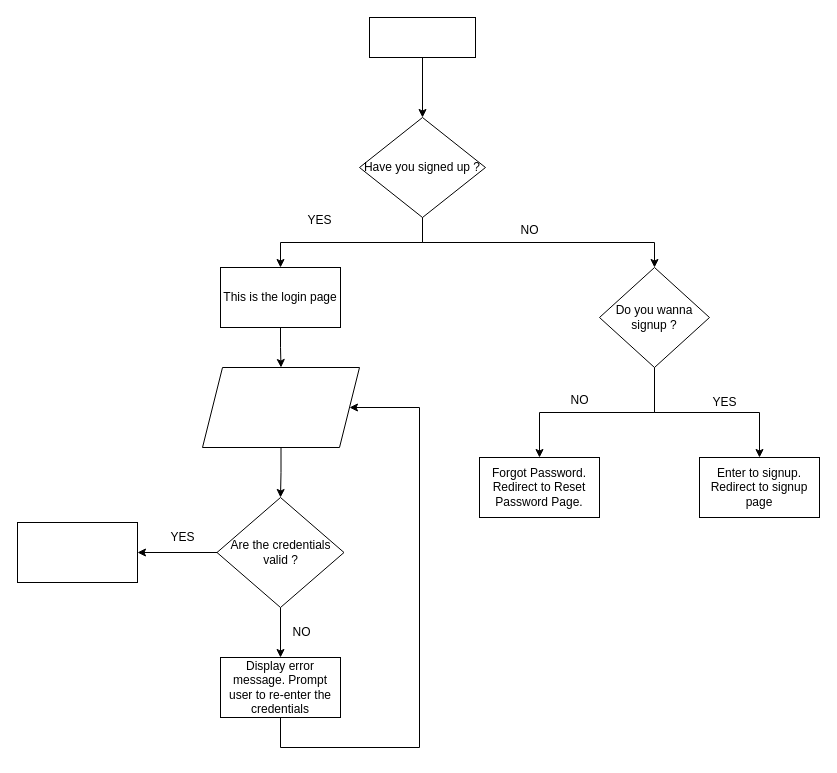
This 837x773 diagram has some shape labels left out. The shapes that lost their labels are listed below. From the top down, each one's centre as x and y in pixels, then its label:
[422,37]: Start
[281,407]: Enter the username and password
[77,552]: Redirect to the home page
